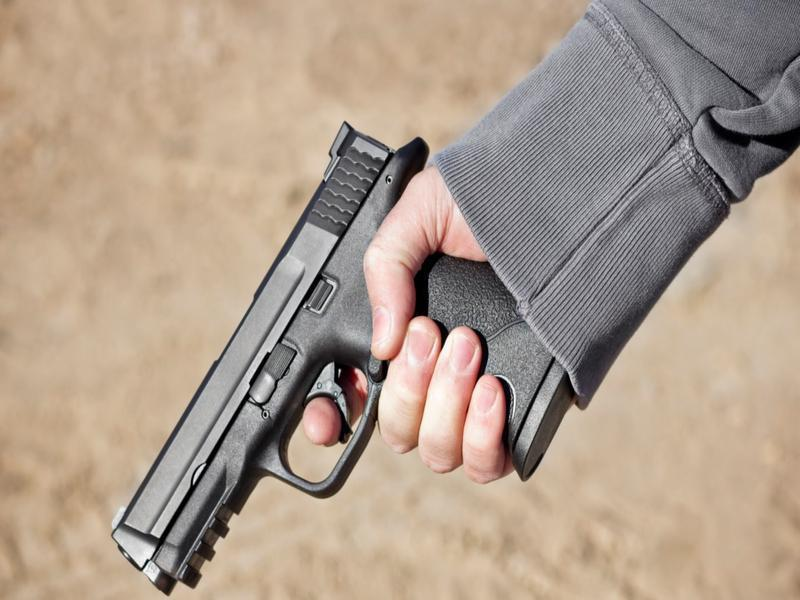GUN: (103, 114, 577, 600)
